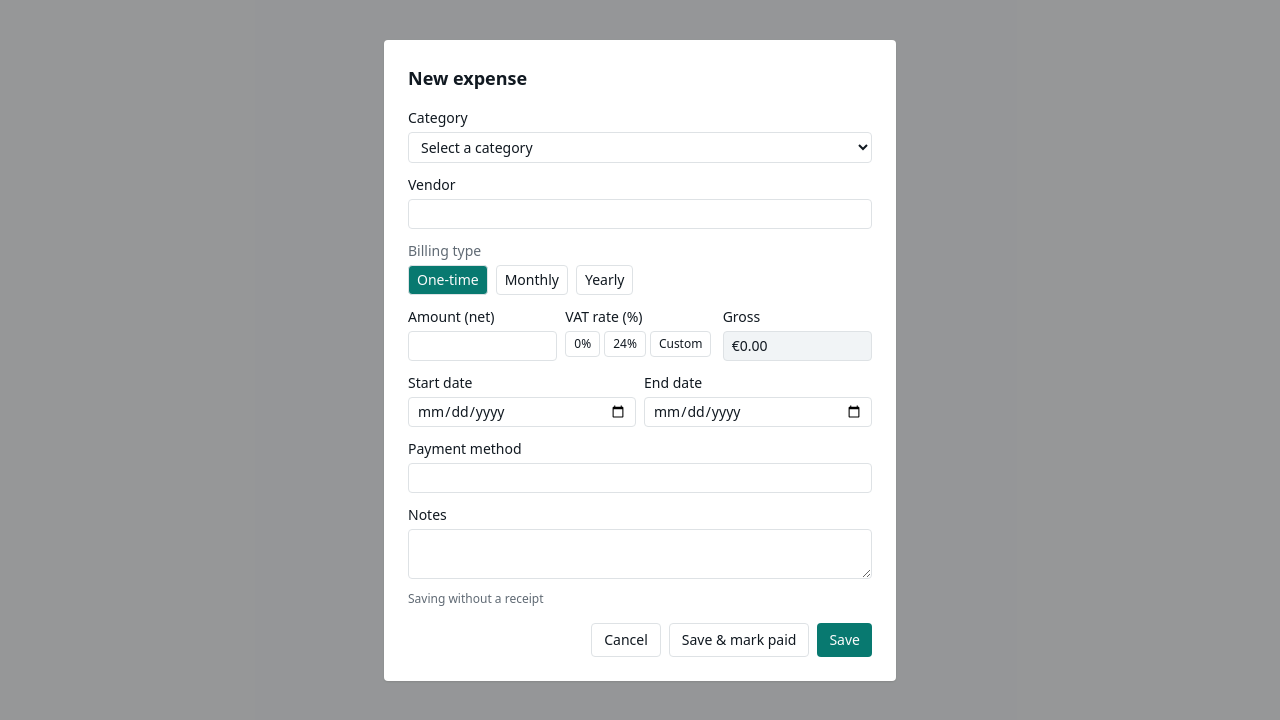
Scenario: NewExpenseDialog — Autopay › shows the autopay toggle for recurring billing
Click the button "Monthly" at (532, 280), box [496,264,568,294]
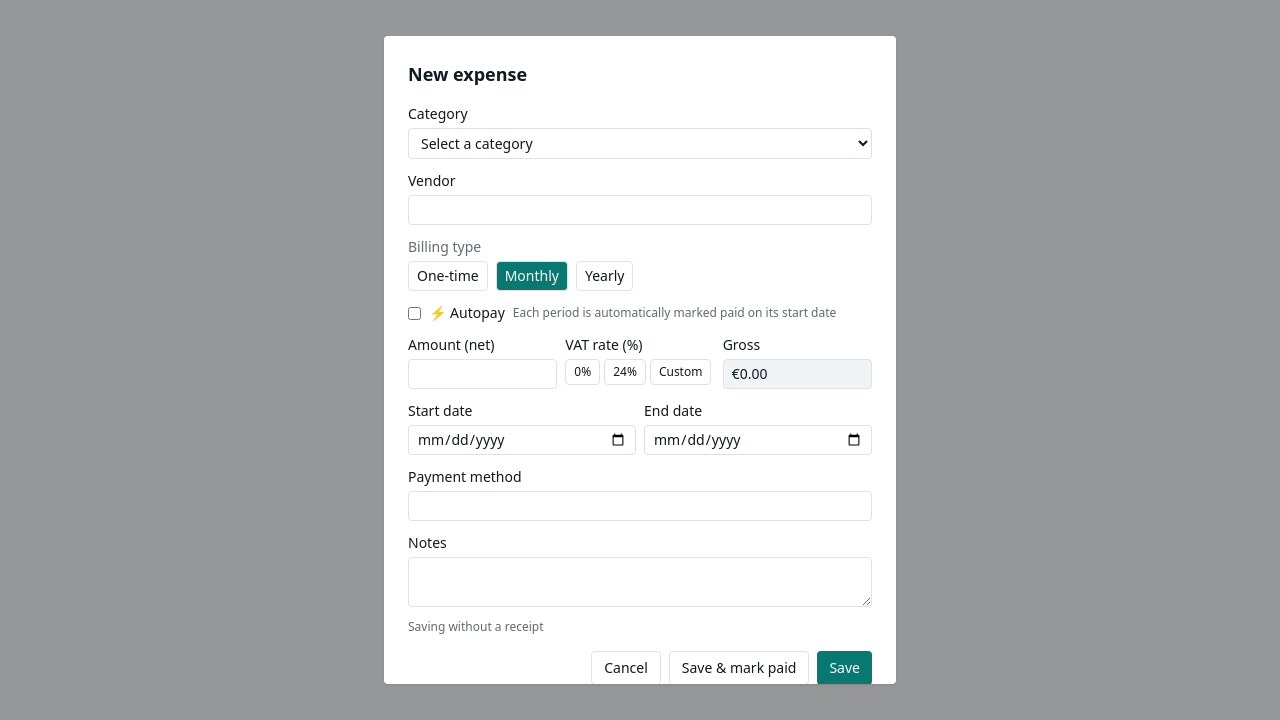
Now the checkbox labelled "Autopay" is shown, box [408,306,421,320]
